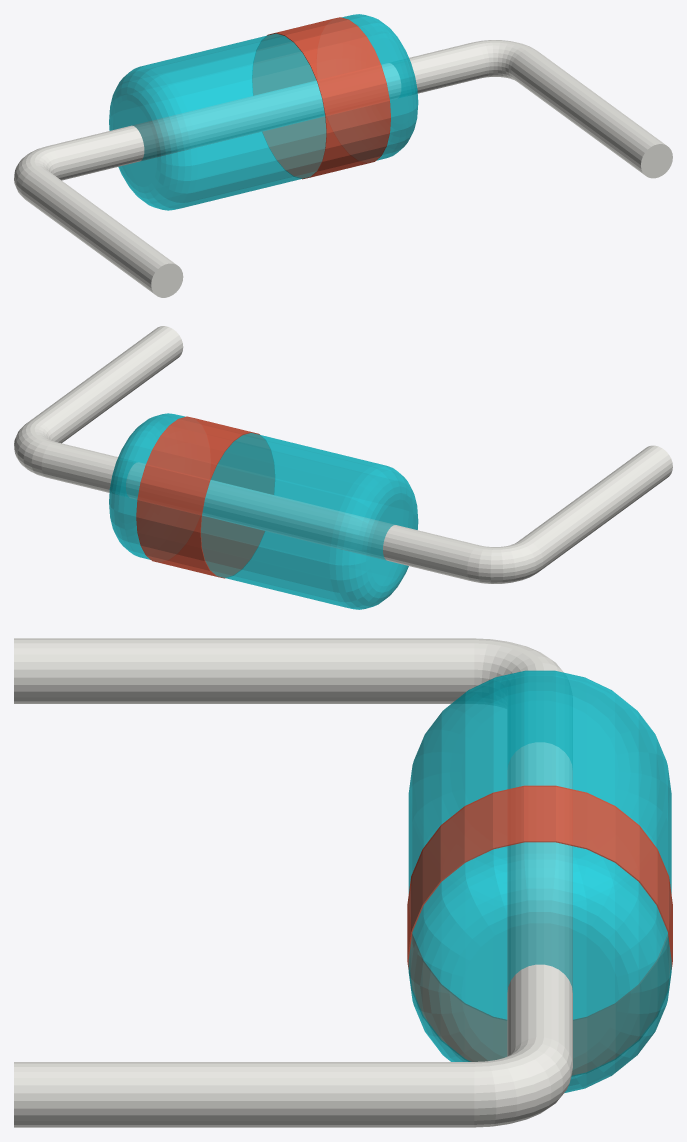
Rendered from D_DO-35_SOD27_P7.62mm_Horizontal.glb.
3 views of the same model, one above another, from view 1: azimuth 30°, elevation 25°; view 2: azimuth 150°, elevation 25°; view 3: azimuth 270°, elevation 25° (orthographic). The views are drawn at different scales.
Parts seen in each view (by area): view 1: Shape_IndexedFaceSet.011, Shape_IndexedFaceSet.007, Shape_IndexedFaceSet.002, Shape_IndexedFaceSet.013, Shape_IndexedFaceSet.004, Shape_IndexedFaceSet, Shape_IndexedFaceSet.012, Shape_IndexedFaceSet.010, Shape_IndexedFaceSet.015, Shape_IndexedFaceSet.014, Shape_IndexedFaceSet.001, Shape_IndexedFaceSet.003 (+2 smaller); view 2: Shape_IndexedFaceSet.011, Shape_IndexedFaceSet.007, Shape_IndexedFaceSet.002, Shape_IndexedFaceSet.013, Shape_IndexedFaceSet.004, Shape_IndexedFaceSet, Shape_IndexedFaceSet.012, Shape_IndexedFaceSet.003, Shape_IndexedFaceSet.010, Shape_IndexedFaceSet.015, Shape_IndexedFaceSet.014, Shape_IndexedFaceSet.001; view 3: Shape_IndexedFaceSet.011, Shape_IndexedFaceSet, Shape_IndexedFaceSet.004, Shape_IndexedFaceSet.012, Shape_IndexedFaceSet.007, Shape_IndexedFaceSet.013, Shape_IndexedFaceSet.002, Shape_IndexedFaceSet.014, Shape_IndexedFaceSet.015, Shape_IndexedFaceSet.001, Shape_IndexedFaceSet.010, Shape_IndexedFaceSet.003 (+1 smaller).
Part boxes in pixels (x1,y1,x2,y2): Shape_IndexedFaceSet.011: (124,33,326,209); Shape_IndexedFaceSet.007: (252,17,390,178); Shape_IndexedFaceSet.002: (47,42,485,180); Shape_IndexedFaceSet.013: (109,65,197,210); Shape_IndexedFaceSet.004: (21,168,175,294); Shape_IndexedFaceSet: (511,49,665,174); Shape_IndexedFaceSet.012: (344,14,418,159); Shape_IndexedFaceSet.010: (342,15,403,160); Shape_IndexedFaceSet.015: (113,100,157,186); Shape_IndexedFaceSet.014: (373,38,413,123); Shape_IndexedFaceSet.001: (474,40,534,80); Shape_IndexedFaceSet.003: (14,146,60,198); Shape_IndexedFaceSet.011: (201,433,403,608); Shape_IndexedFaceSet.007: (136,416,274,577); Shape_IndexedFaceSet.002: (41,441,478,580); Shape_IndexedFaceSet.013: (329,464,418,609); Shape_IndexedFaceSet.004: (518,445,672,571); Shape_IndexedFaceSet: (28,326,183,443); Shape_IndexedFaceSet.012: (109,413,182,558); Shape_IndexedFaceSet.003: (467,540,542,583); Shape_IndexedFaceSet.010: (123,414,185,559); Shape_IndexedFaceSet.015: (370,499,414,586); Shape_IndexedFaceSet.014: (113,437,153,523); Shape_IndexedFaceSet.001: (14,421,53,476); Shape_IndexedFaceSet.011: (408,675,671,1019); Shape_IndexedFaceSet: (14,1062,474,1127); Shape_IndexedFaceSet.004: (14,638,474,703); Shape_IndexedFaceSet.012: (408,853,671,1092); Shape_IndexedFaceSet.007: (407,785,672,1075); Shape_IndexedFaceSet.013: (409,670,671,907); Shape_IndexedFaceSet.002: (507,669,572,1065); Shape_IndexedFaceSet.014: (461,923,618,1058); Shape_IndexedFaceSet.015: (461,701,618,802); Shape_IndexedFaceSet.001: (474,1037,572,1127); Shape_IndexedFaceSet.010: (408,842,671,1086); Shape_IndexedFaceSet.003: (474,638,569,708).
Bounding box in the file's own units: 3.2 × 0.7895 × 1.97.
